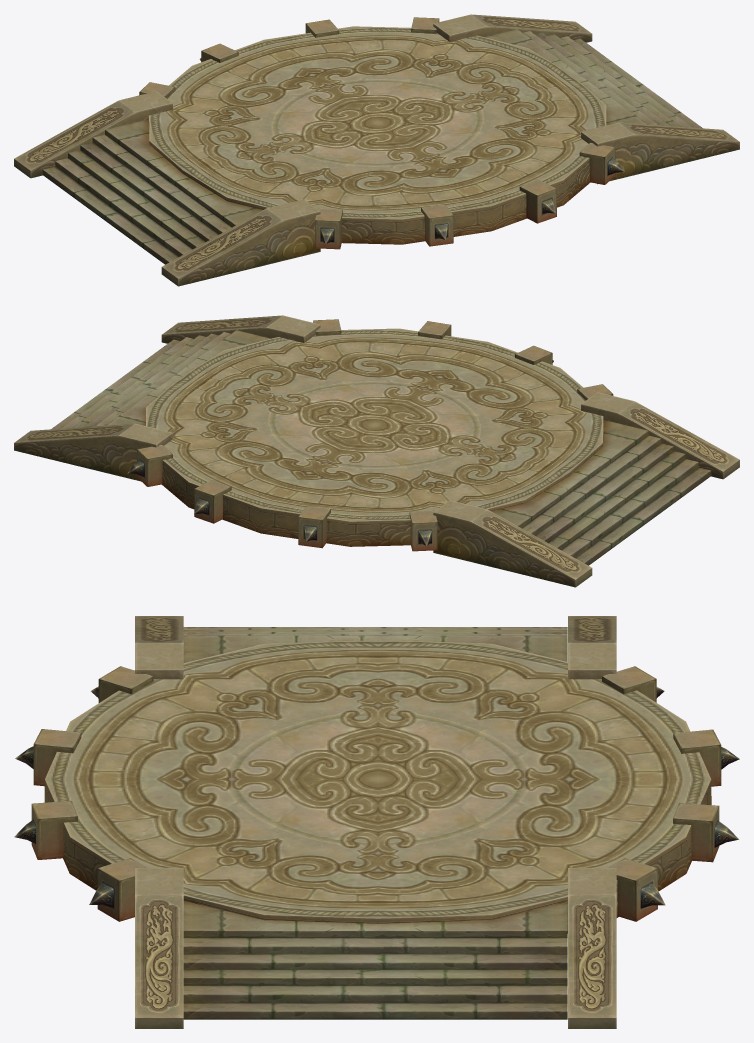
The model's file is Stage_JingJiChang_PingTai.FBX.
The picture shows the model from 3 angles, top to bottom: view 1: azimuth 30°, elevation 25°; view 2: azimuth 150°, elevation 25°; view 3: azimuth 270°, elevation 25°; orthographic projection. The views are drawn at different scales.
Visible parts, largest first — view 1: Stage_JingJiChang_PingTai; view 2: Stage_JingJiChang_PingTai; view 3: Stage_JingJiChang_PingTai.
Boxes of the visible parts, x1=… form: Stage_JingJiChang_PingTai: x1=14, y1=14, x2=739, y2=286; Stage_JingJiChang_PingTai: x1=14, y1=315, x2=739, y2=587; Stage_JingJiChang_PingTai: x1=14, y1=616, x2=739, y2=1028.
Bounding box in the file's own units: 2717 × 187 × 2075.
